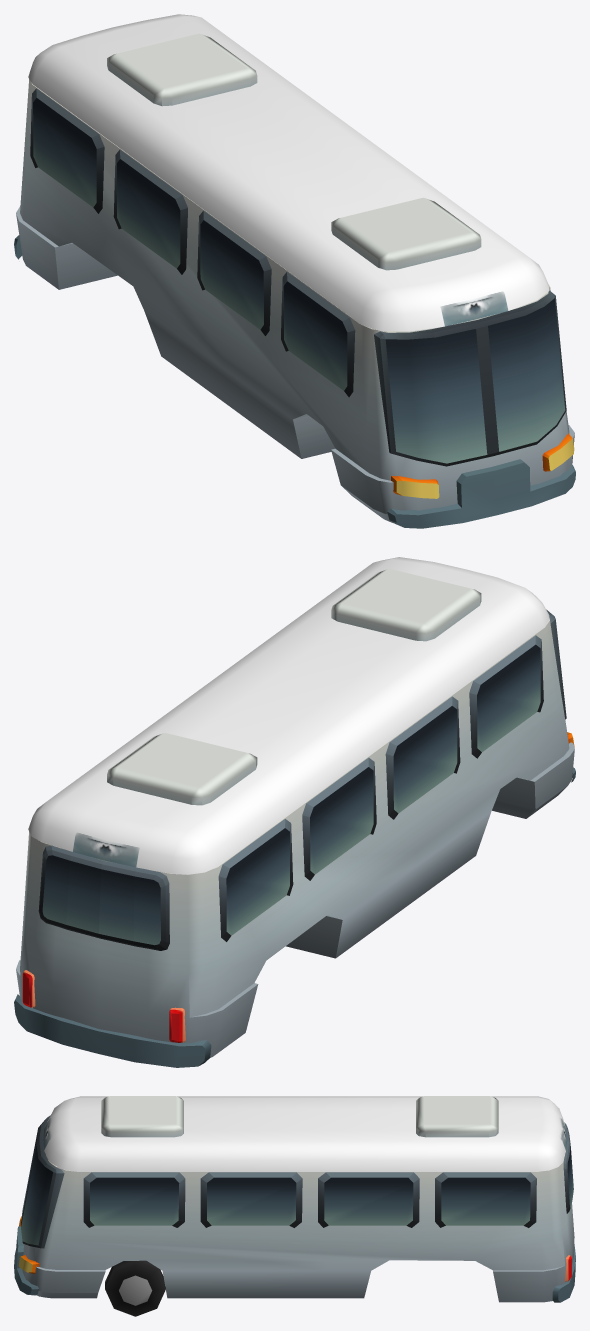
Rendered from 2_Bus_TenSeaterTest.fbx.
3 views of the same model, one above another, from view 1: azimuth 30°, elevation 25°; view 2: azimuth 150°, elevation 25°; view 3: azimuth 270°, elevation 25° (orthographic). The views are drawn at different scales.
Parts seen in each view (by area): view 1: Bus_roof__Removable__color, Bus_body_color, kinh_c_1, kinh_c_2; view 2: Bus_roof__Removable__color, Bus_body_color, kinh_c_2, kinh_c_1; view 3: Bus_body_color, Bus_roof__Removable__color, kinh_c_2, kinh_c_1, BANH XE.
Boxes of the visible parts, bbox=[...] form: Bus_roof__Removable__color: bbox=[28, 14, 549, 331]; Bus_body_color: bbox=[14, 79, 575, 528]; kinh_c_1: bbox=[374, 290, 566, 466]; kinh_c_2: bbox=[30, 88, 355, 397]; Bus_roof__Removable__color: bbox=[28, 557, 549, 874]; Bus_body_color: bbox=[14, 617, 575, 1067]; kinh_c_2: bbox=[218, 635, 543, 941]; kinh_c_1: bbox=[38, 609, 566, 950]; Bus_body_color: bbox=[14, 1118, 575, 1302]; Bus_roof__Removable__color: bbox=[43, 1096, 567, 1171]; kinh_c_2: bbox=[83, 1172, 536, 1227]; kinh_c_1: bbox=[21, 1115, 573, 1248]; BANH XE: bbox=[105, 1260, 165, 1316].
Size of the model in its own units: 131 by 152 by 446.
